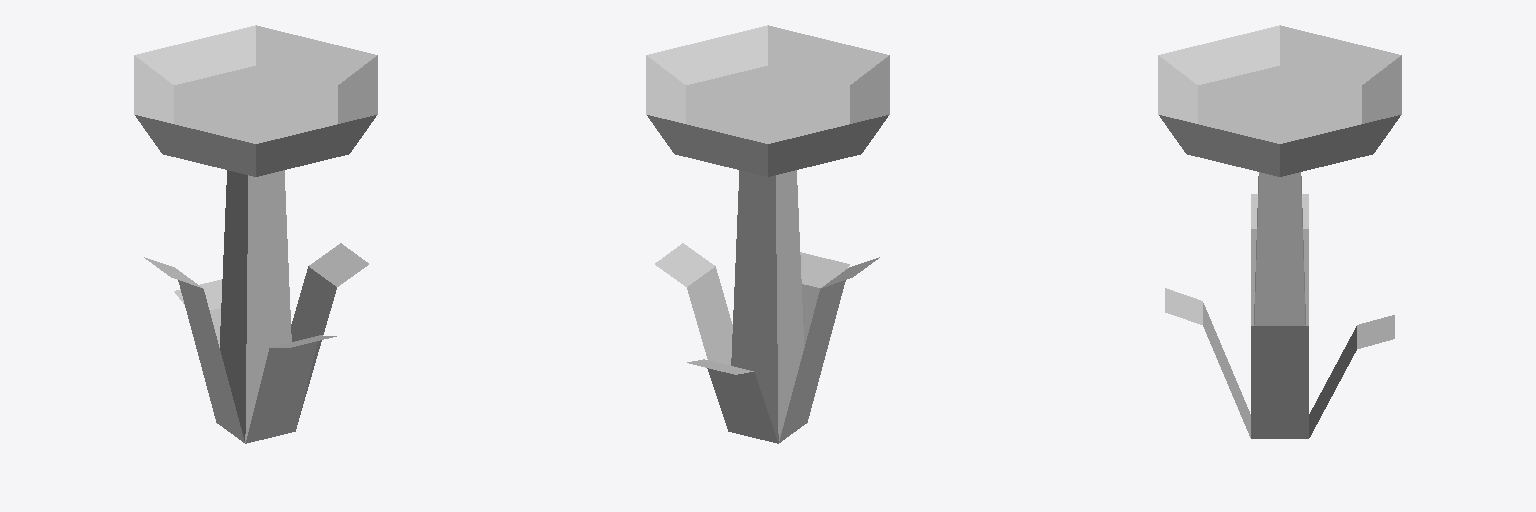
Rendered from flower_beige3.obj.
The picture shows the model from 3 angles: view 1: azimuth 30°, elevation 25°; view 2: azimuth 150°, elevation 25°; view 3: azimuth 270°, elevation 25°; orthographic projection.
Visible parts, largest first — view 1: flower_beige3; view 2: flower_beige3; view 3: flower_beige3.
Part boxes in pixels (x1,y1,x2,y2): flower_beige3: (134,25,377,443); flower_beige3: (646,25,889,443); flower_beige3: (1158,25,1401,438).
Bounding box in the file's own units: 1.51 × 2.03 × 1.31.